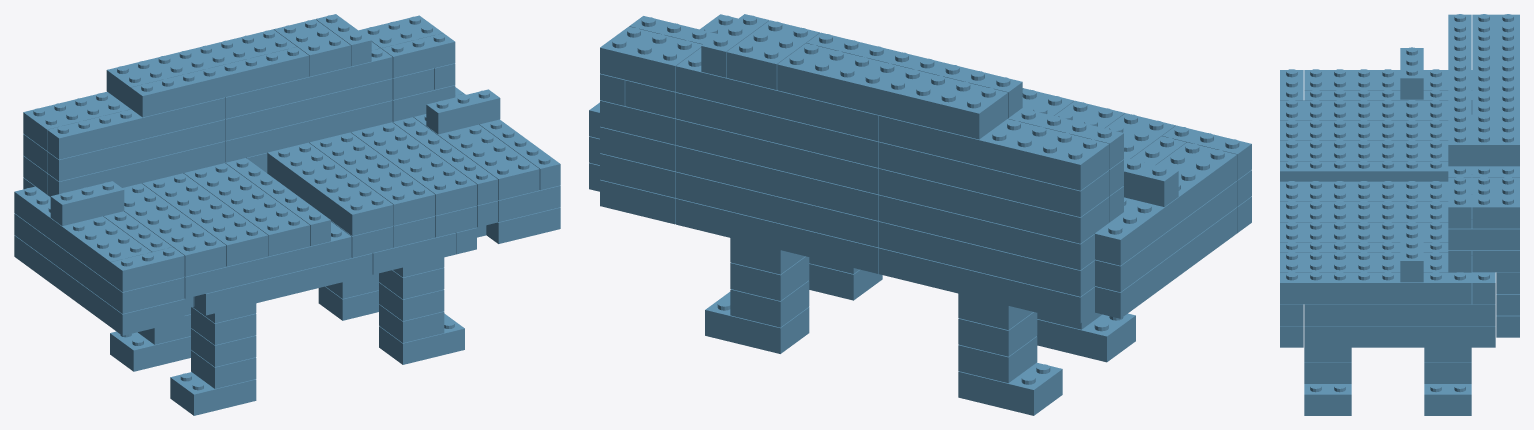
Rendered from 215_sofa_L5.glb.
3 views of the same model, side by side, from view 1: azimuth 30°, elevation 25°; view 2: azimuth 150°, elevation 25°; view 3: azimuth 270°, elevation 25° (orthographic). The views are drawn at different scales.
Size of the model in its own units: 20.98 by 12.13 by 9.98.
